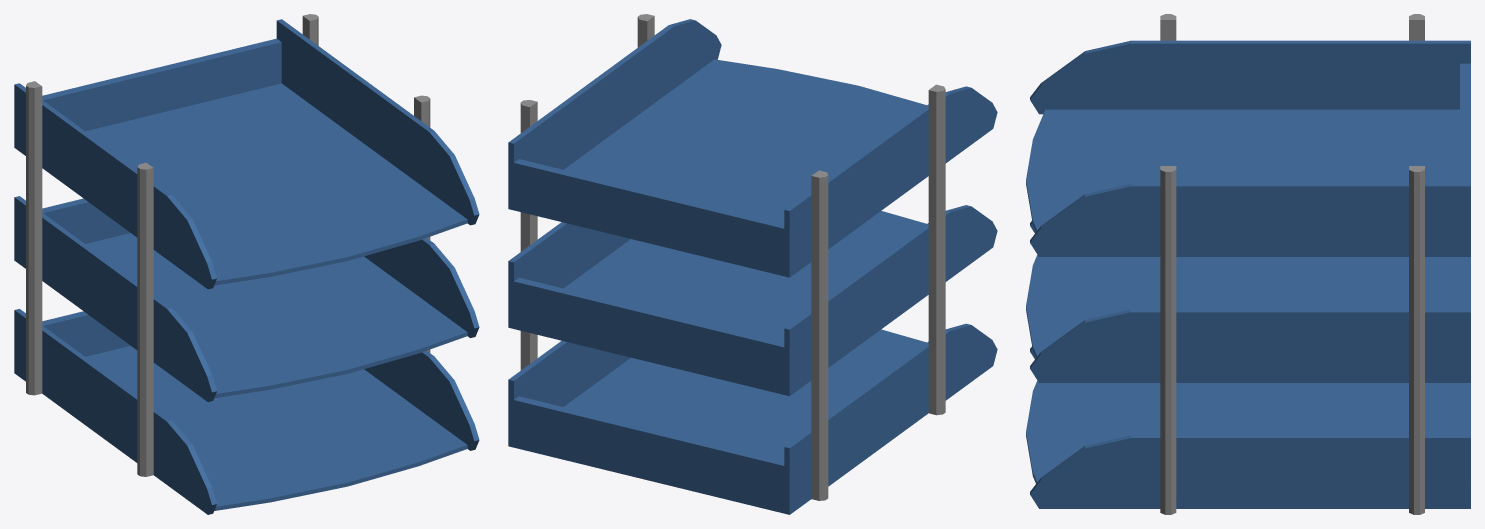
Rendered from Int_OfficePaperTray01.fbx.
3 renders of one model, left to right at view 1: azimuth 30°, elevation 25°; view 2: azimuth 150°, elevation 25°; view 3: azimuth 270°, elevation 25°, orthographic. The views are drawn at different scales.
Visible parts, largest first — view 1: Int_OfficePaperTray01; view 2: Int_OfficePaperTray01; view 3: Int_OfficePaperTray01.
Boxes of the visible parts, x1,y1,x2,y2 form: Int_OfficePaperTray01: (14, 14, 479, 514); Int_OfficePaperTray01: (508, 14, 997, 514); Int_OfficePaperTray01: (1026, 14, 1470, 514).
Size of what is drawn, in the model's own units: 38.95 by 46.36 by 39.43.
